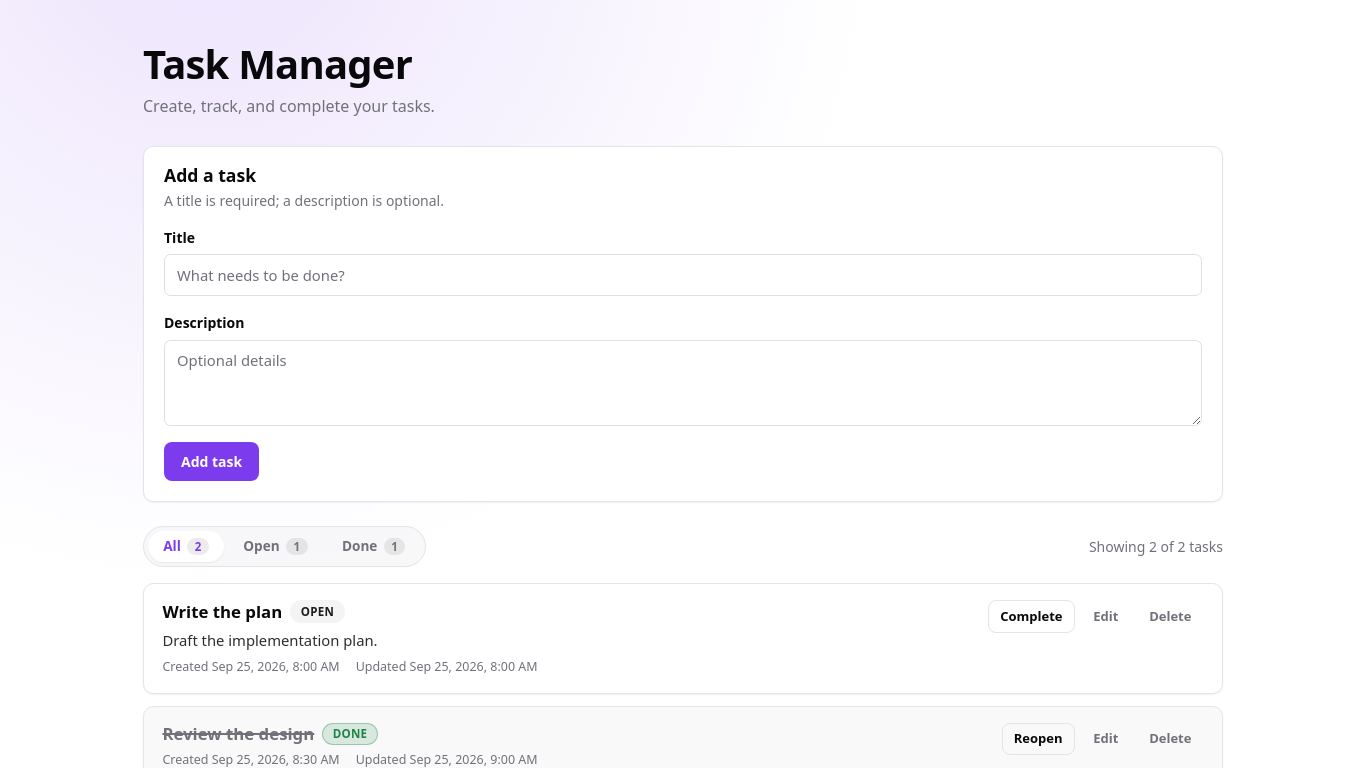
App › toggles a task open, done, and open again
The image size is (1366, 768).
Click the button with aria-label "Mark Write the plan as done" at (1031,617), box [988,600,1075,633]
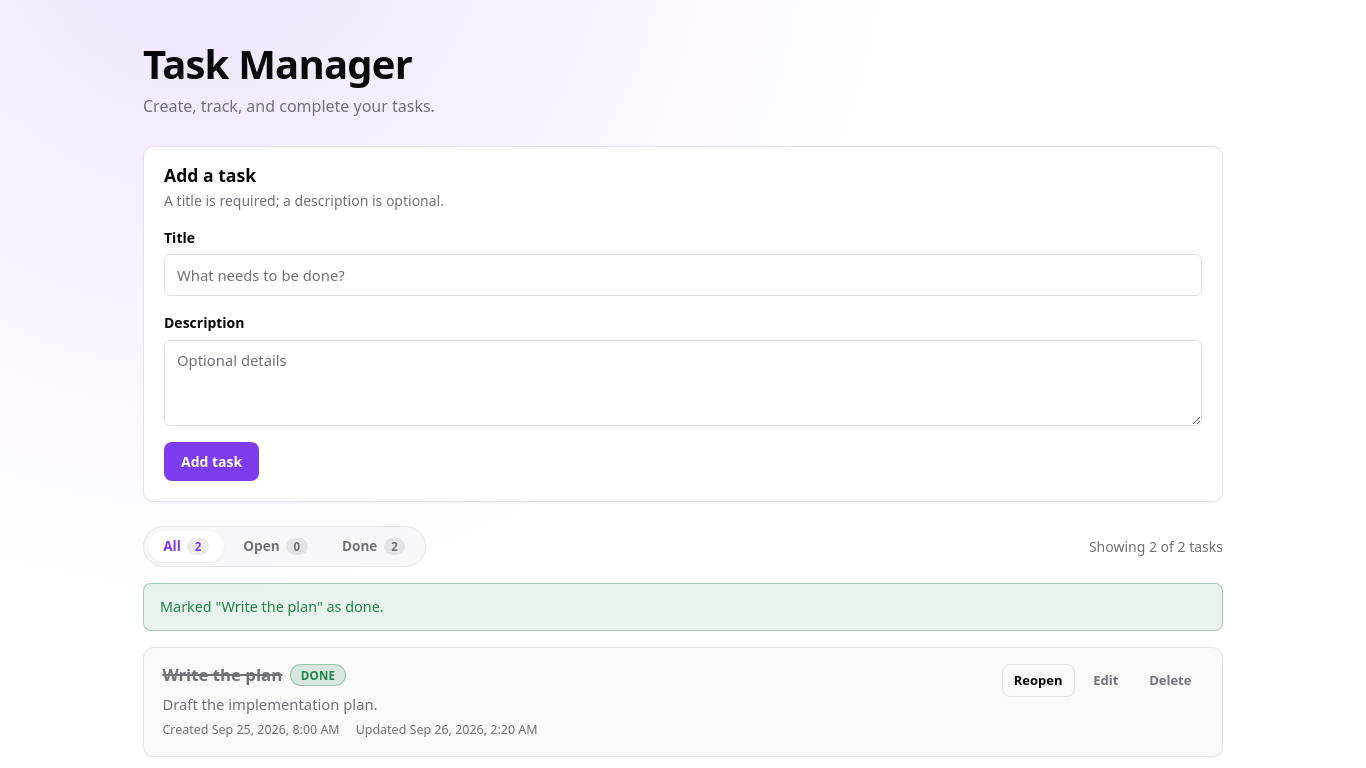
Check: the 2nd text "Done" is shown, box [290,664,346,686]
Click the button with aria-label "Mark Write the plan as open" at (1038,680), box [1002,664,1075,697]
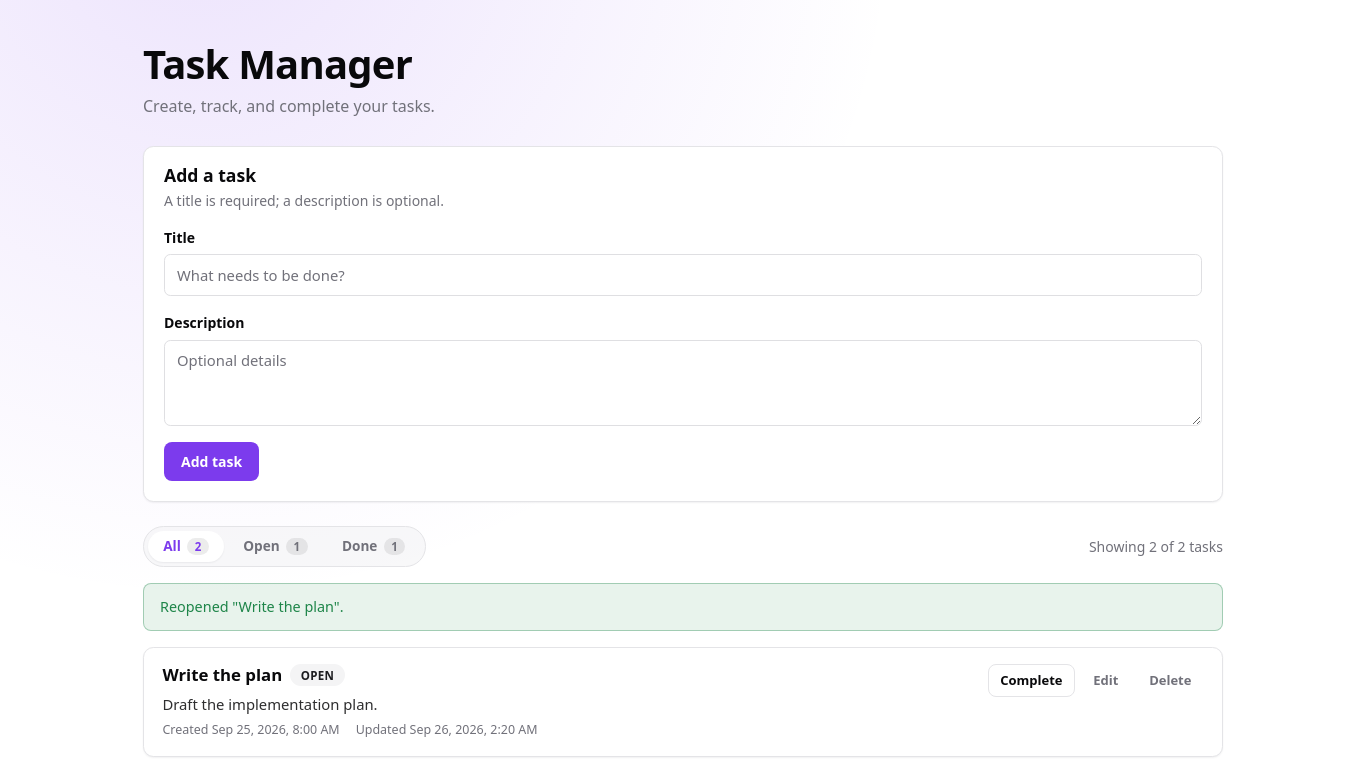
Check: the 2nd text "Open" is shown, box [290,664,345,686]
